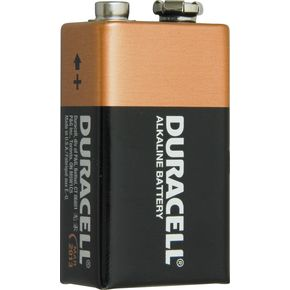Nonrec_Other: (49, 10, 251, 290)
